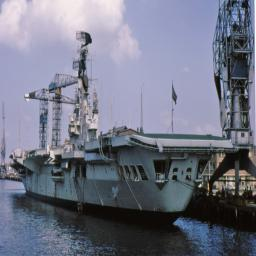Portanaves: (10, 27, 241, 229)
